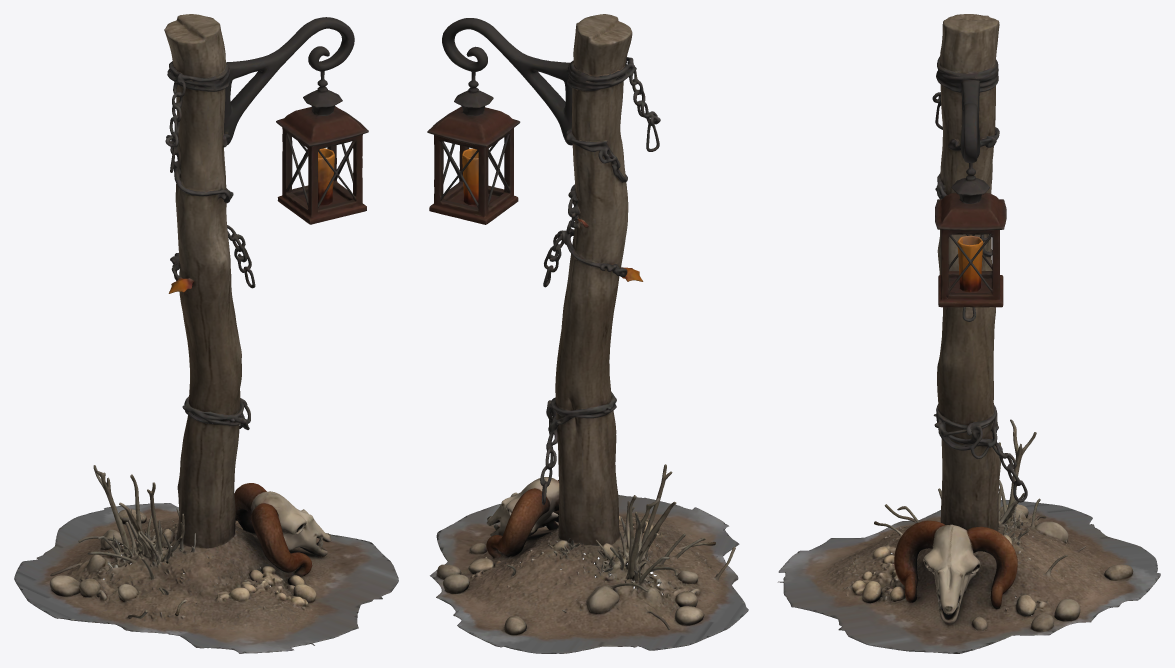
The model's file is goblin-lantern-v2.glb.
3 renders of one model, left to right at view 1: azimuth 30°, elevation 25°; view 2: azimuth 150°, elevation 25°; view 3: azimuth 270°, elevation 25°, orthographic.
Visible parts, largest first — view 1: world; view 2: world; view 3: world.
Boxes of the visible parts, box(x1,y1,x2,y2) form: world: box(14, 14, 398, 653); world: box(427, 14, 748, 653); world: box(777, 14, 1160, 653).
Size of the model in its own units: 0.5926 by 0.9919 by 0.6241.
1 material, 1 textured.
